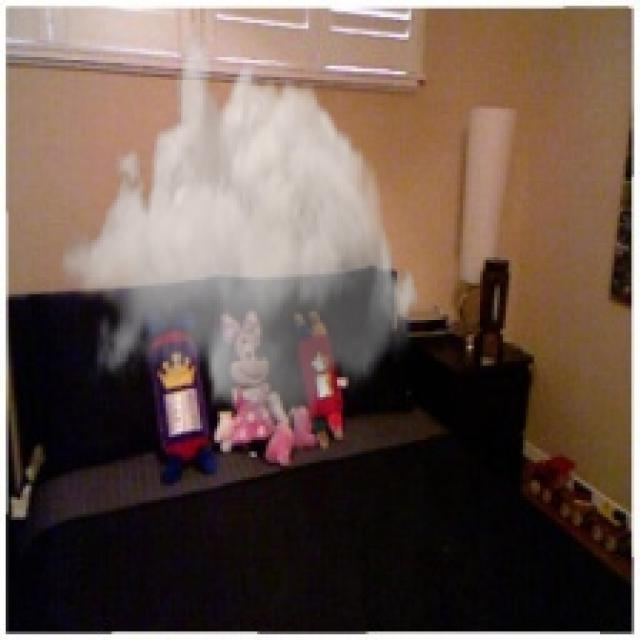Smoke: (60, 31, 423, 452)
